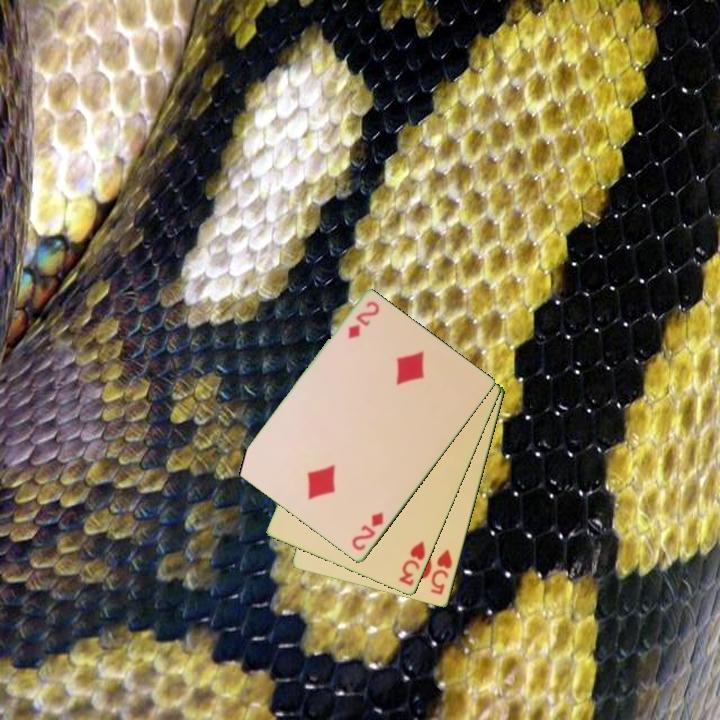2d: (348, 509, 387, 554), (344, 298, 383, 342)
3h: (396, 538, 428, 589)
5h: (427, 546, 455, 598)
